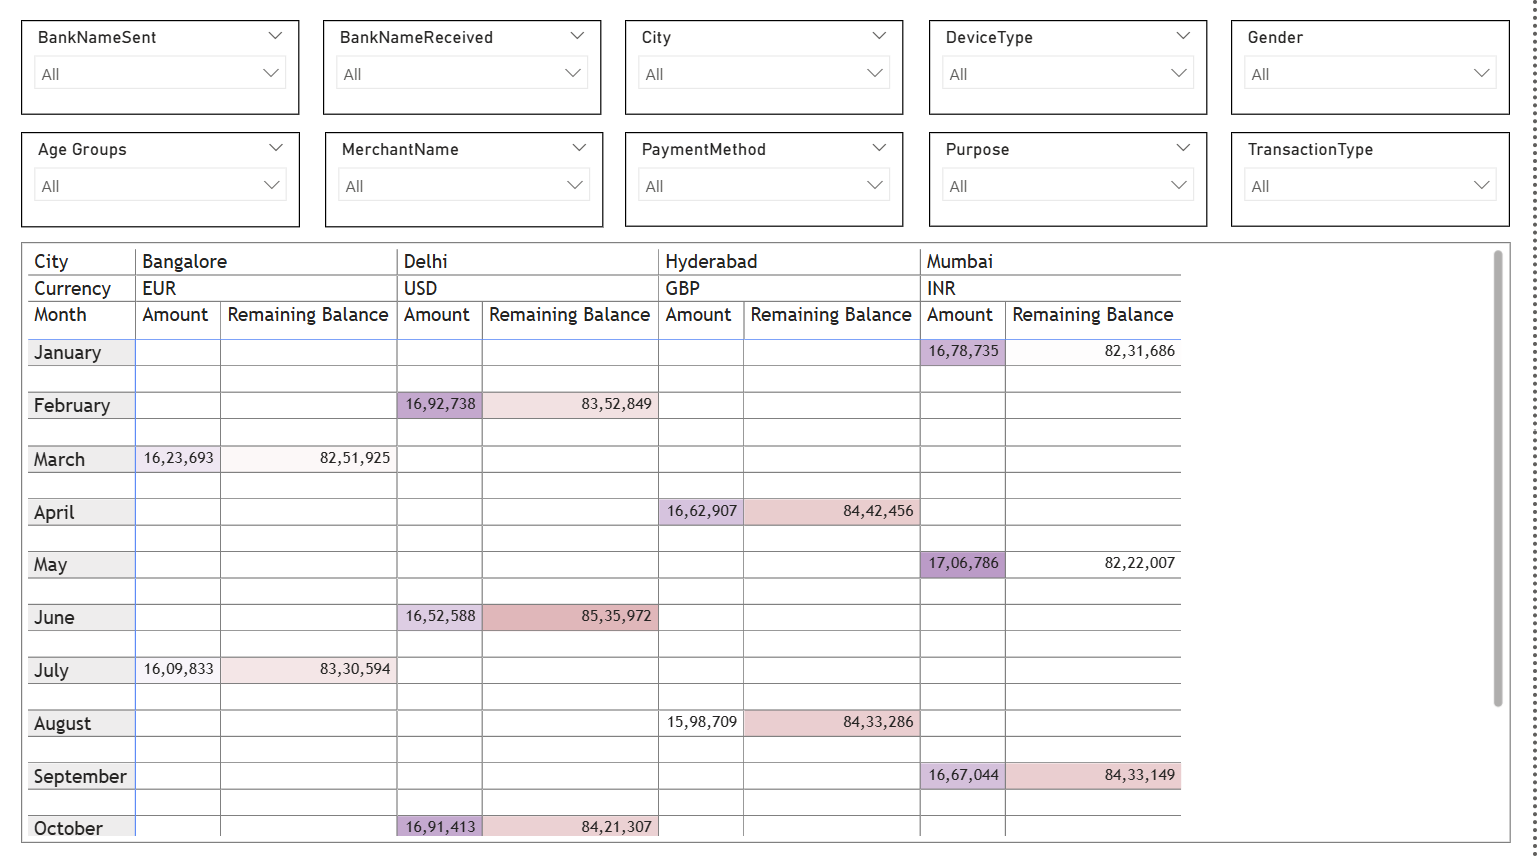

What the dashboard file says about the page in this screenshot:
{"tool":"powerbi","page":{"name":"Page 2","canvas":[1280,720],"ordinal":1},"visuals":[{"type":"slicer","fields":{"Values":["UPI Transactions.BankNameSent"]},"box":[20,20,232,79],"z":0},{"type":"slicer","fields":{"Values":["UPI Transactions.BankNameReceived"]},"box":[272,20,232,79],"z":1000},{"type":"slicer","fields":{"Values":["UPI Transactions.City"]},"box":[524,20,232,79],"z":2000},{"type":"slicer","fields":{"Values":["UPI Transactions.DeviceType"]},"box":[776,20,232,79],"z":3000},{"type":"slicer","fields":{"Values":["UPI Transactions.Gender"]},"box":[1028,20,232.7,79],"z":4000},{"type":"slicer","fields":{"Values":["UPI Transactions.Age Groups"]},"box":[20,113.3,232.7,79.6],"z":5000},{"type":"slicer","fields":{"Values":["UPI Transactions.MerchantName"]},"box":[272.5,113.3,232,79.6],"z":6000},{"type":"slicer","fields":{"Values":["UPI Transactions.PaymentMethod"]},"box":[524,113.4,232,79],"z":7000},{"type":"slicer","fields":{"Values":["UPI Transactions.Purpose"]},"box":[776,113.4,232,79],"z":8000},{"type":"slicer","fields":{"Values":["UPI Transactions.TransactionType"]},"box":[1028,113.4,232.7,79],"z":9000},{"type":"pivotTable","fields":{"Values":["Sum(UPI Transactions.Amount)","Sum(UPI Transactions.RemainingBalance)"],"Rows":["UPI Transactions.TransactionDate.Variation.Date Hierarchy.Month"],"Columns":["UPI Transactions.City","UPI Transactions.Currency"]},"box":[20,205,1241.7,500],"z":9001}]}

Visuals, with their boxes in screenshot pixels (x1, y1, x2, y2), scaled from the page's 1280x720 canvas onto the 1538x856 screenshot:
slicer - UPI Transactions.BankNameSent: [x1=24, y1=24, x2=303, y2=118]
slicer - UPI Transactions.BankNameReceived: [x1=327, y1=24, x2=606, y2=118]
slicer - UPI Transactions.City: [x1=630, y1=24, x2=908, y2=118]
slicer - UPI Transactions.DeviceType: [x1=932, y1=24, x2=1211, y2=118]
slicer - UPI Transactions.Gender: [x1=1235, y1=24, x2=1515, y2=118]
slicer - UPI Transactions.Age Groups: [x1=24, y1=135, x2=304, y2=229]
slicer - UPI Transactions.MerchantName: [x1=327, y1=135, x2=606, y2=229]
slicer - UPI Transactions.PaymentMethod: [x1=630, y1=135, x2=908, y2=229]
slicer - UPI Transactions.Purpose: [x1=932, y1=135, x2=1211, y2=229]
slicer - UPI Transactions.TransactionType: [x1=1235, y1=135, x2=1515, y2=229]
pivotTable - Sum(UPI Transactions.Amount) x Sum(UPI Transactions.RemainingBalance): [x1=24, y1=244, x2=1516, y2=838]
